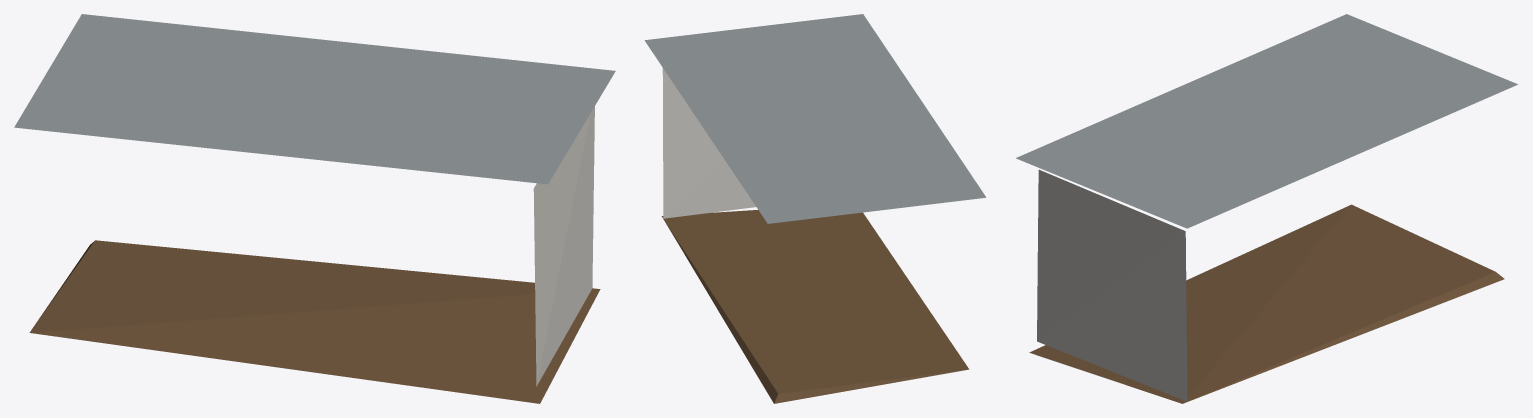
Rendered from kiosk-stubbes-haring.lod2.glb.
The picture shows the model from 3 angles, left to right: view 1: azimuth 30°, elevation 25°; view 2: azimuth 150°, elevation 25°; view 3: azimuth 270°, elevation 25°; orthographic projection. The views are drawn at different scales.
Visible parts, largest first — view 1: lod2; view 2: lod2; view 3: lod2.
Part boxes in pixels (x1,y1,x2,y2): lod2: (14, 14, 615, 403); lod2: (644, 14, 986, 403); lod2: (1016, 14, 1518, 403).
Bounding box in the file's own units: 6.34 × 2.68 × 6.28.
